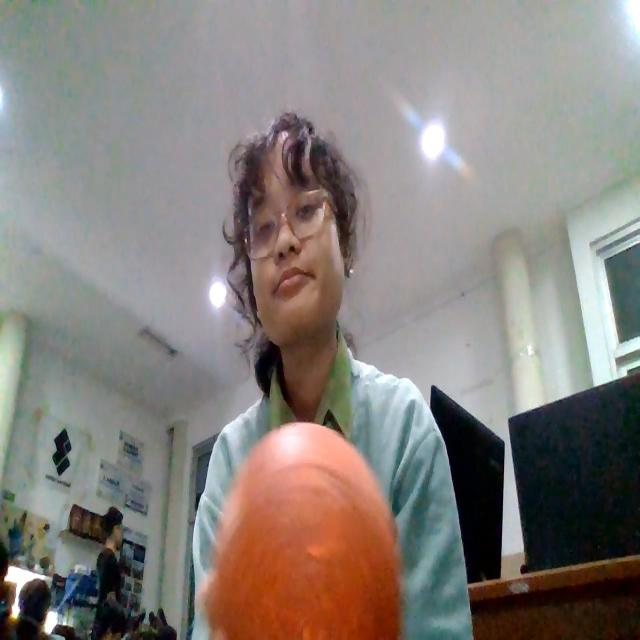ball: (204, 421, 404, 638)
